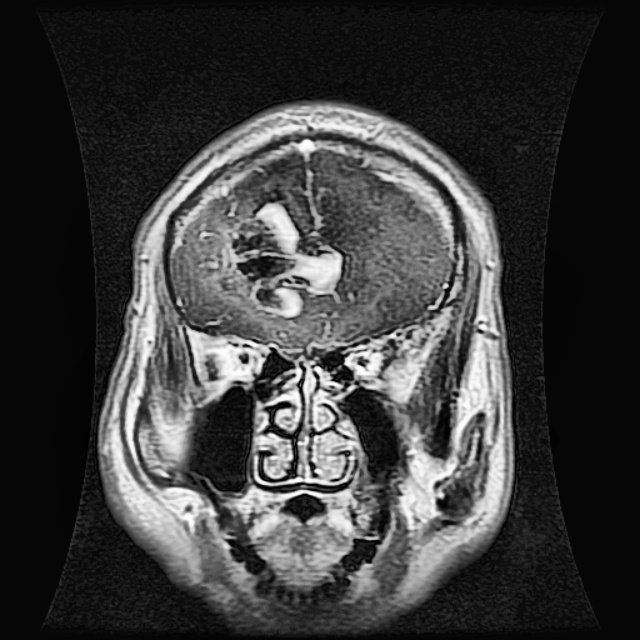Meningioma: (225, 190, 344, 313)
